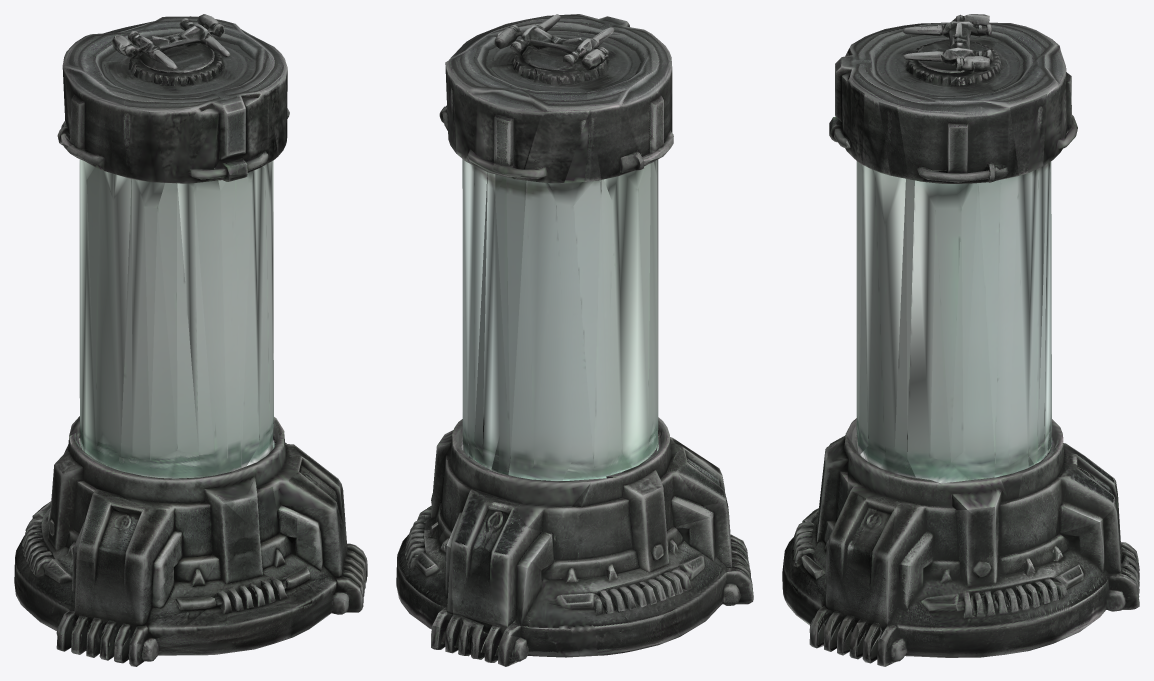
Rendered from StationCurative.fbx.
3 renders of one model, left to right at view 1: azimuth 30°, elevation 25°; view 2: azimuth 150°, elevation 25°; view 3: azimuth 270°, elevation 25°, orthographic.
Visible parts, largest first — view 1: Mesh_0; view 2: Mesh_0; view 3: Mesh_0.
Boxes of the visible parts, x1,y1,x2,y2 form: Mesh_0: (14,14,367,666); Mesh_0: (396,14,753,666); Mesh_0: (782,14,1139,666).
Bounding box in the file's own units: 111 × 190 × 110.
Materials: 1 (1 with a texture image).
